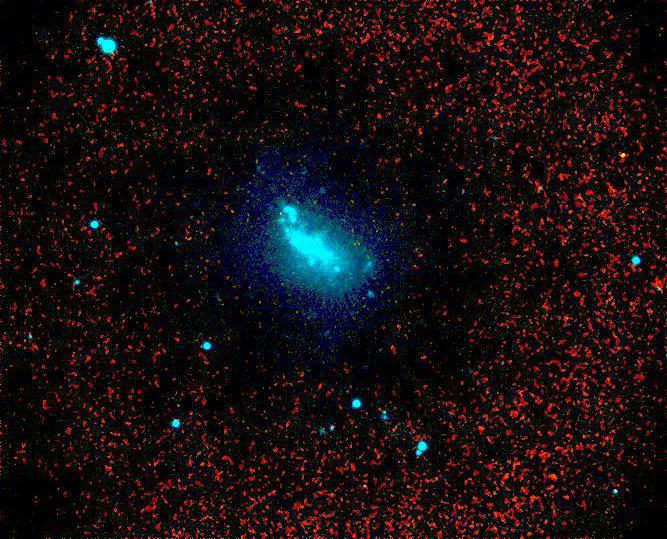star: (607, 143, 637, 173)
